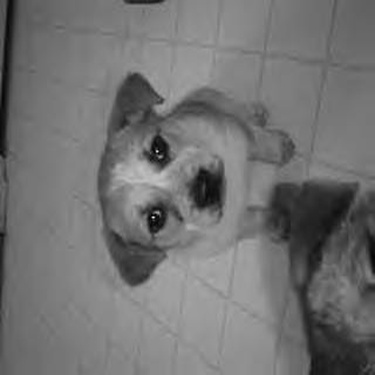dog: (64, 56, 304, 293)
